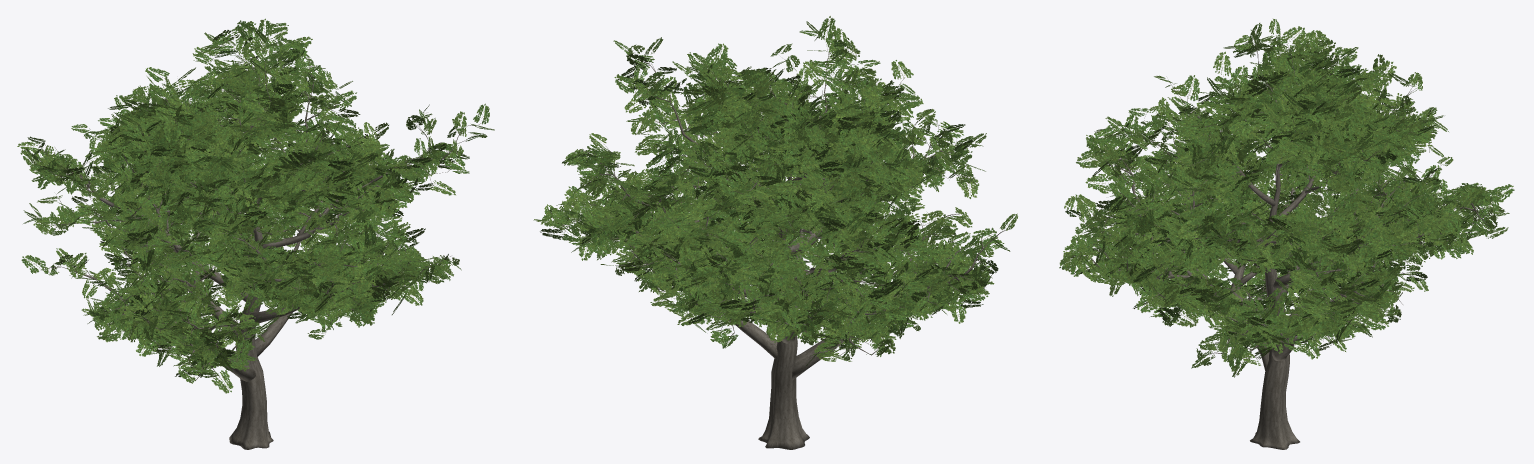
File: field-maple.glb
The picture shows the model from 3 angles, left to right: view 1: azimuth 30°, elevation 25°; view 2: azimuth 150°, elevation 25°; view 3: azimuth 270°, elevation 25°; orthographic projection. The views are drawn at different scales.
Visible parts, largest first — view 1: Field maple - leaf-bearing sprays, Field maple - branchwood, AC_FieldMaple_Bole, Field maple - scaffold limbs; view 2: Field maple - leaf-bearing sprays, Field maple - branchwood, AC_FieldMaple_Bole, Field maple - scaffold limbs; view 3: Field maple - leaf-bearing sprays, Field maple - branchwood, AC_FieldMaple_Bole, Field maple - scaffold limbs.
Part boxes in pixels (x1=…): Field maple - leaf-bearing sprays: x1=17, y1=18, x2=494, y2=393; Field maple - branchwood: x1=32, y1=35, x2=481, y2=380; AC_FieldMaple_Bole: x1=229, y1=197, x2=273, y2=449; Field maple - scaffold limbs: x1=113, y1=110, x2=370, y2=381; Field maple - leaf-bearing sprays: x1=533, y1=16, x2=1017, y2=367; Field maple - branchwood: x1=562, y1=39, x2=1009, y2=358; AC_FieldMaple_Bole: x1=758, y1=174, x2=809, y2=449; Field maple - scaffold limbs: x1=648, y1=131, x2=899, y2=380; Field maple - leaf-bearing sprays: x1=1059, y1=19, x2=1514, y2=377; Field maple - branchwood: x1=1076, y1=38, x2=1493, y2=359; AC_FieldMaple_Bole: x1=1250, y1=157, x2=1299, y2=449; Field maple - scaffold limbs: x1=1140, y1=132, x2=1359, y2=370.
Size of what is drawn, in the model's own units: 12.86 by 11.79 by 12.76.
2 materials, 2 textured.
